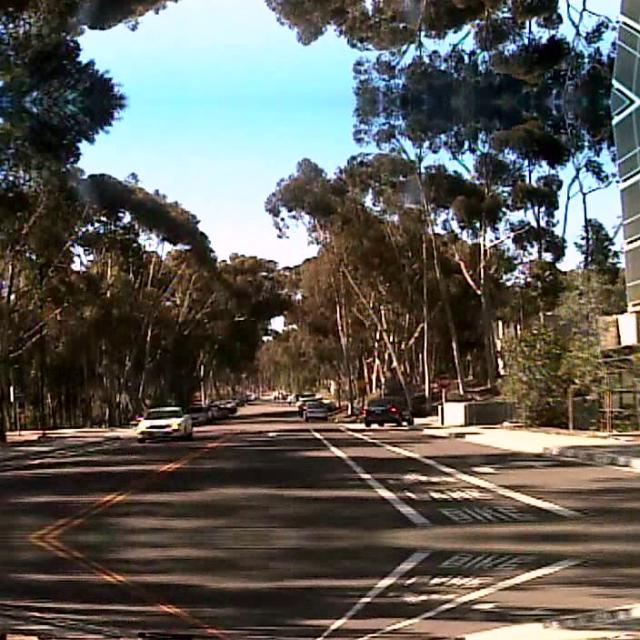stop: (436, 372, 450, 388)
